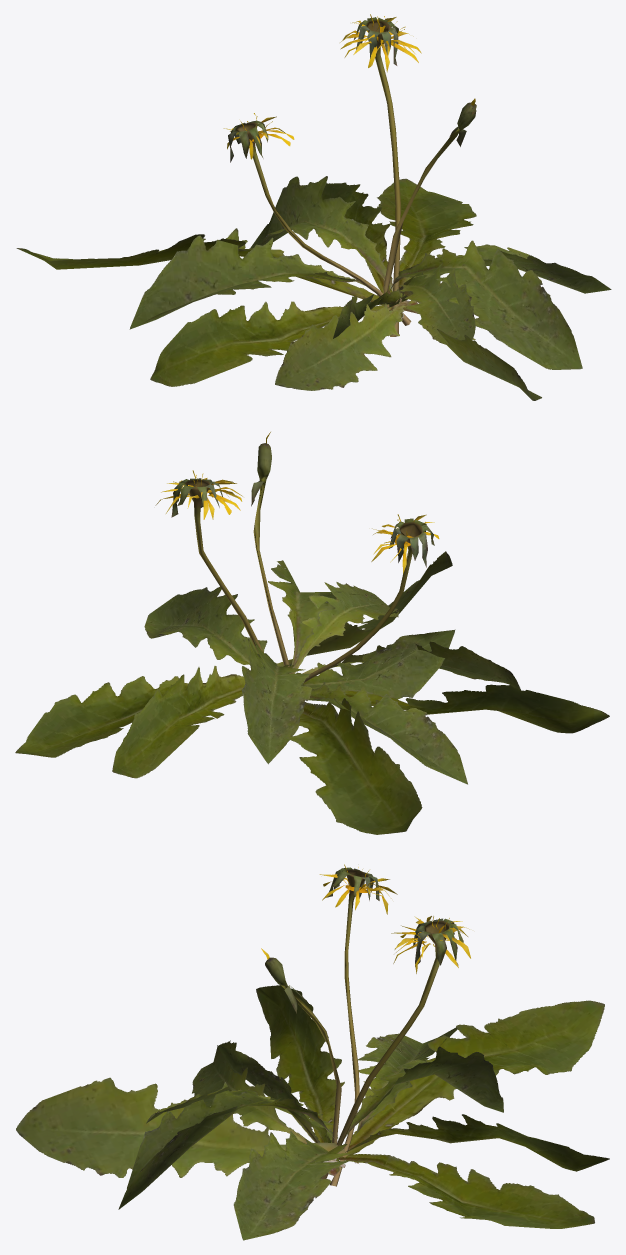
3 views of the same model, one above another, from view 1: azimuth 30°, elevation 25°; view 2: azimuth 150°, elevation 25°; view 3: azimuth 270°, elevation 25° (orthographic). The views are drawn at different scales.
Parts seen in each view (by area): view 1: dandelion_01__b_lod0; view 2: dandelion_01__b_lod0; view 3: dandelion_01__b_lod0.
Boxes of the visible parts, x1,y1,x2,y2 form: dandelion_01__b_lod0: (16,14,611,400); dandelion_01__b_lod0: (15,432,609,834); dandelion_01__b_lod0: (16,864,609,1240).
Bounding box in the file's own units: 0.2163 × 0.1229 × 0.2337.
1 material, 1 textured.
